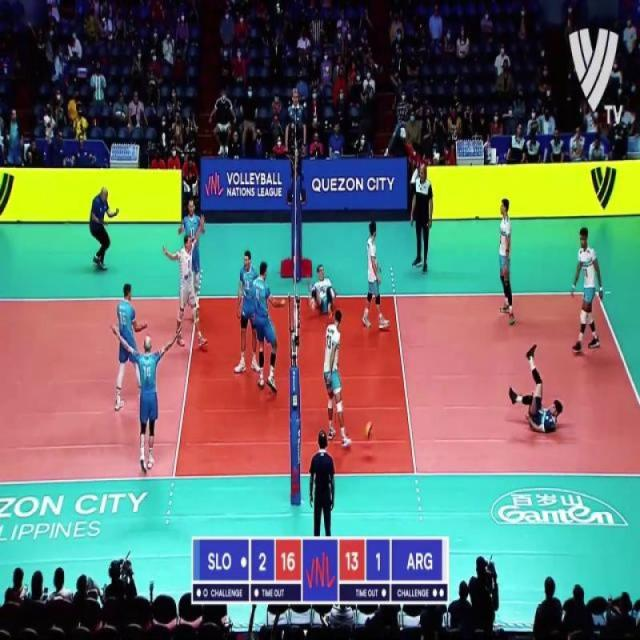volleyball: (366, 420, 372, 439)
